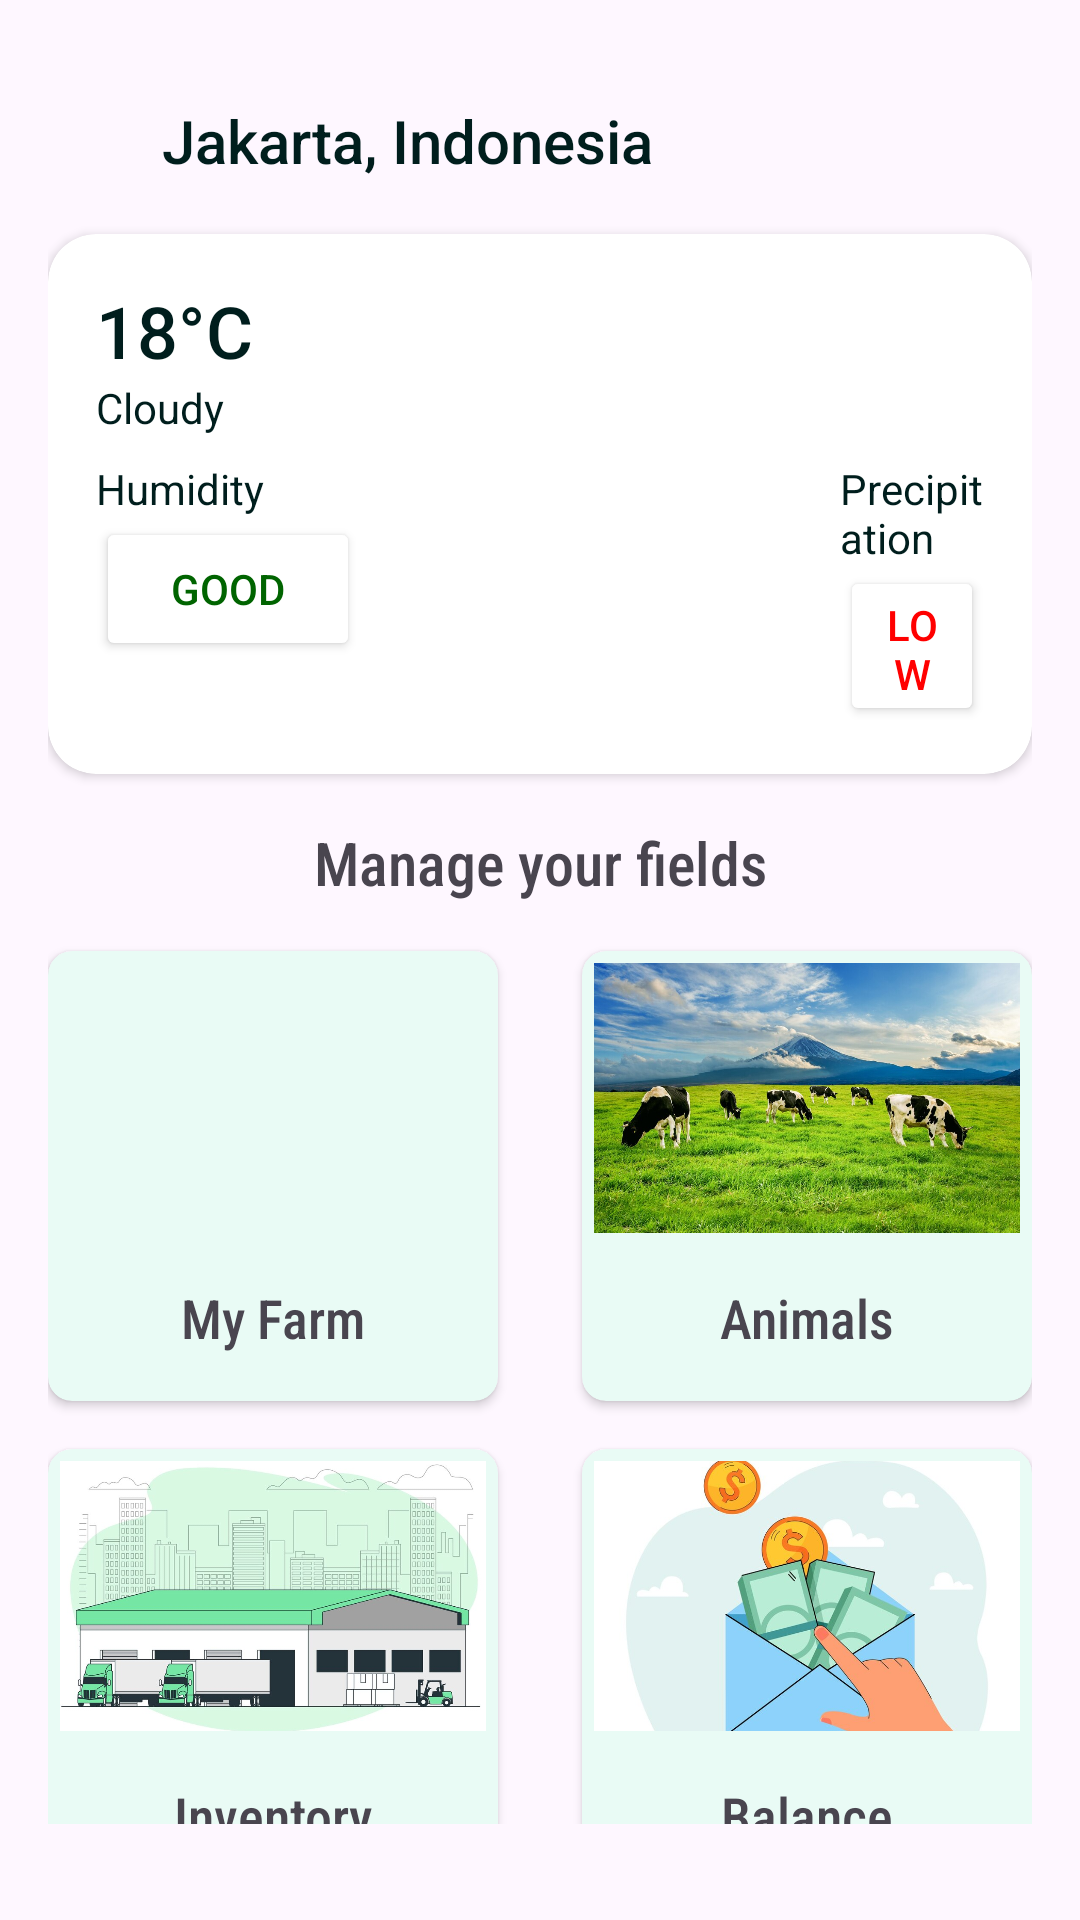

Icons on this 1080×1920 Android screen, each with the point to tap as point (x, y):
money: point (828, 1596)
